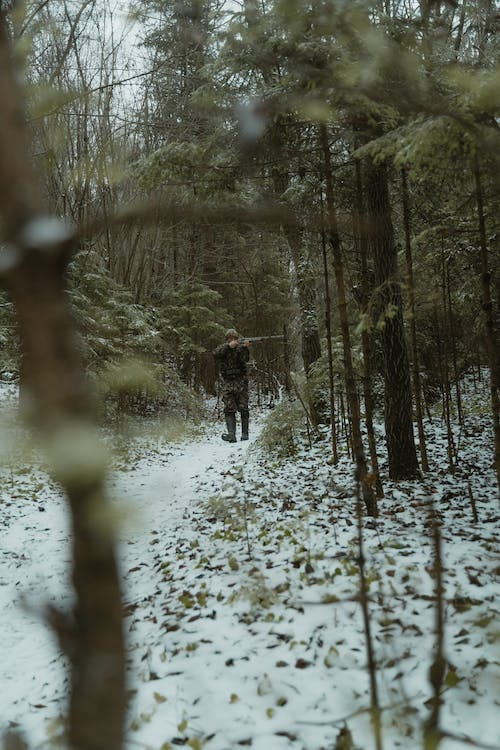gun: (234, 329, 289, 348)
